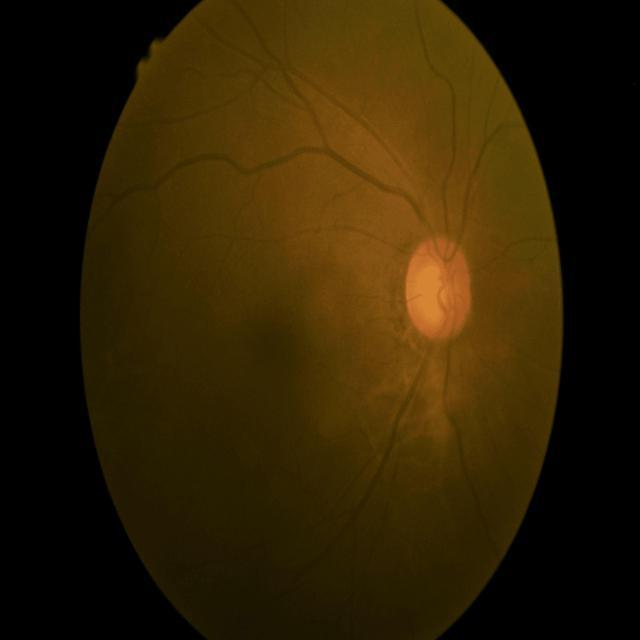cup: (420, 264, 458, 320)
disk: (404, 237, 472, 340)
